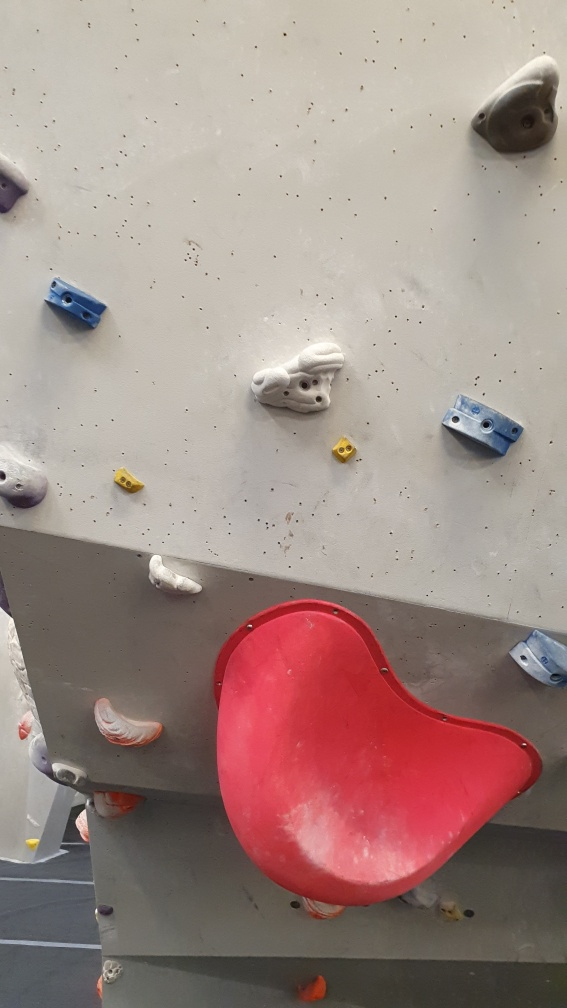Crimp: (112, 464, 145, 497)
Jug: (469, 52, 566, 160), (250, 338, 350, 421), (90, 694, 172, 752), (146, 552, 205, 602)
Pinch: (444, 393, 530, 455), (42, 274, 112, 332), (506, 623, 567, 686), (329, 437, 360, 461)
